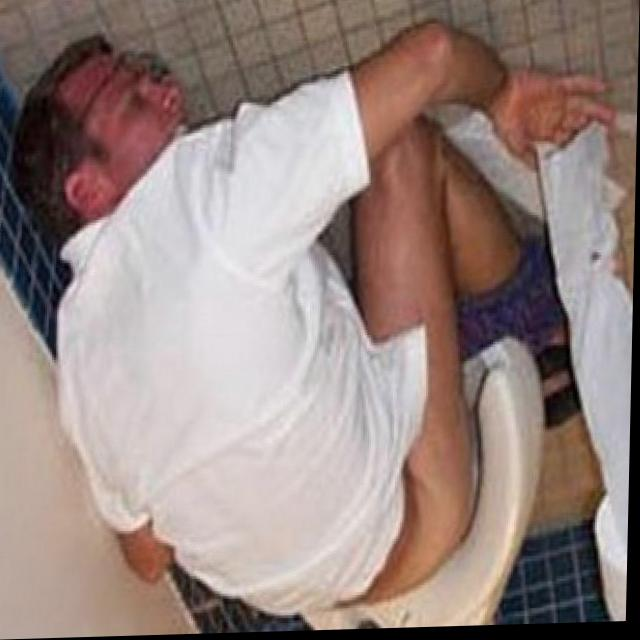fall: (16, 20, 620, 626)
